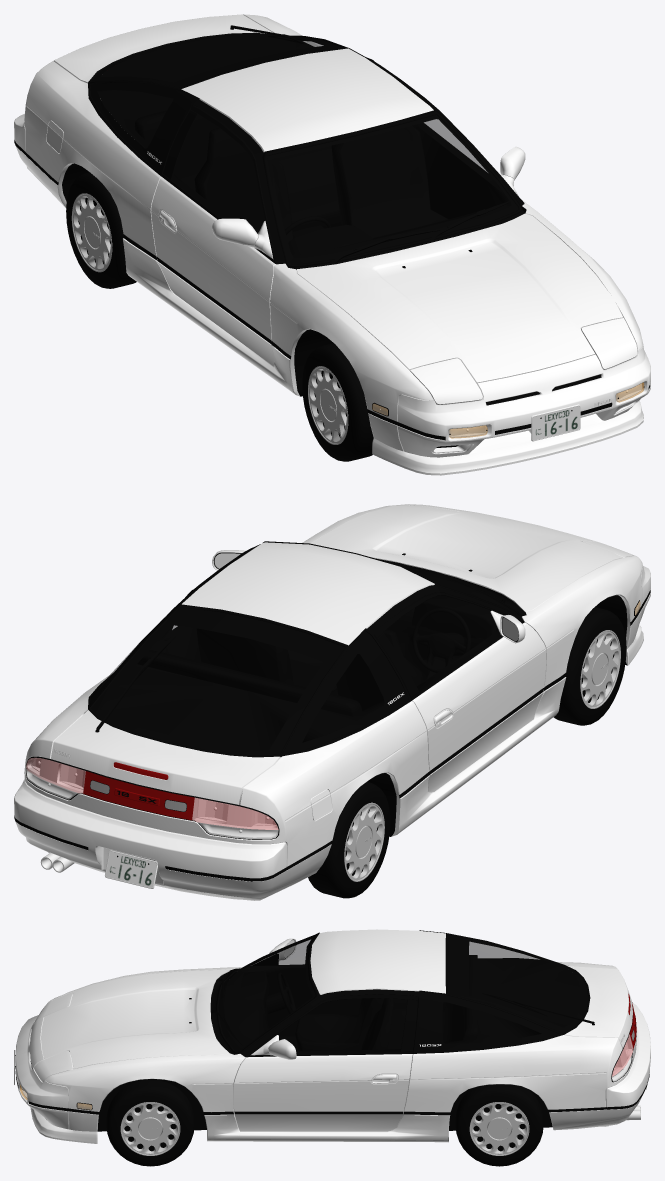
Rendered from nissan_180sx_1989.glb.
The picture shows the model from 3 angles, top to bottom: view 1: azimuth 30°, elevation 25°; view 2: azimuth 150°, elevation 25°; view 3: azimuth 270°, elevation 25°; orthographic projection. The views are drawn at different scales.
Parts seen in each view (by area): view 1: Object_10, Object_12, Object_16, Object_7, Wheel_Group, Object_24, Object_11, Object_6, Object_5, Object_23, Object_19, Object_4 (+1 smaller); view 2: Object_10, Object_12, Object_7, Object_16, Wheel_Group, Object_11, Object_24, Object_22, Object_14, Object_21, Object_5, Object_23 (+3 smaller); view 3: Object_10, Object_12, Object_7, Wheel_Group, Object_16, Object_11, Object_24, Object_5, Object_23, Object_6, Object_25, Object_22.
Boxes of the visible parts, x1,y1,x2,y2 form: Object_10: [14, 14, 650, 475]; Object_12: [97, 35, 511, 257]; Object_16: [134, 110, 448, 254]; Object_7: [97, 34, 511, 258]; Wheel_Group: [66, 172, 373, 461]; Object_24: [14, 25, 650, 440]; Object_11: [90, 33, 518, 264]; Object_6: [193, 58, 524, 264]; Object_5: [62, 163, 601, 447]; Object_23: [163, 61, 523, 263]; Object_19: [531, 404, 580, 441]; Object_4: [373, 383, 643, 438]; Object_10: [14, 504, 650, 900]; Object_12: [99, 568, 510, 749]; Object_7: [97, 571, 510, 750]; Object_16: [137, 595, 501, 716]; Wheel_Group: [308, 607, 626, 898]; Object_11: [90, 585, 516, 755]; Object_24: [14, 541, 650, 881]; Object_22: [26, 601, 639, 839]; Object_14: [26, 758, 277, 829]; Object_21: [83, 762, 194, 820]; Object_5: [48, 565, 627, 852]; Object_23: [117, 547, 523, 803]; Object_10: [15, 929, 650, 1143]; Object_12: [224, 938, 580, 1053]; Object_7: [223, 937, 581, 1055]; Wheel_Group: [106, 1079, 543, 1166]; Object_16: [240, 955, 477, 1051]; Object_11: [218, 934, 588, 1052]; Object_24: [15, 930, 649, 1115]; Object_5: [30, 971, 552, 1140]; Object_23: [246, 994, 635, 1057]; Object_6: [240, 989, 419, 1056]; Object_25: [124, 1104, 525, 1151]; Object_22: [22, 1034, 633, 1109].
Size of the model in its own units: 2.51 by 1.73 by 6.05.
Materials: 25 (1 with a texture image).
